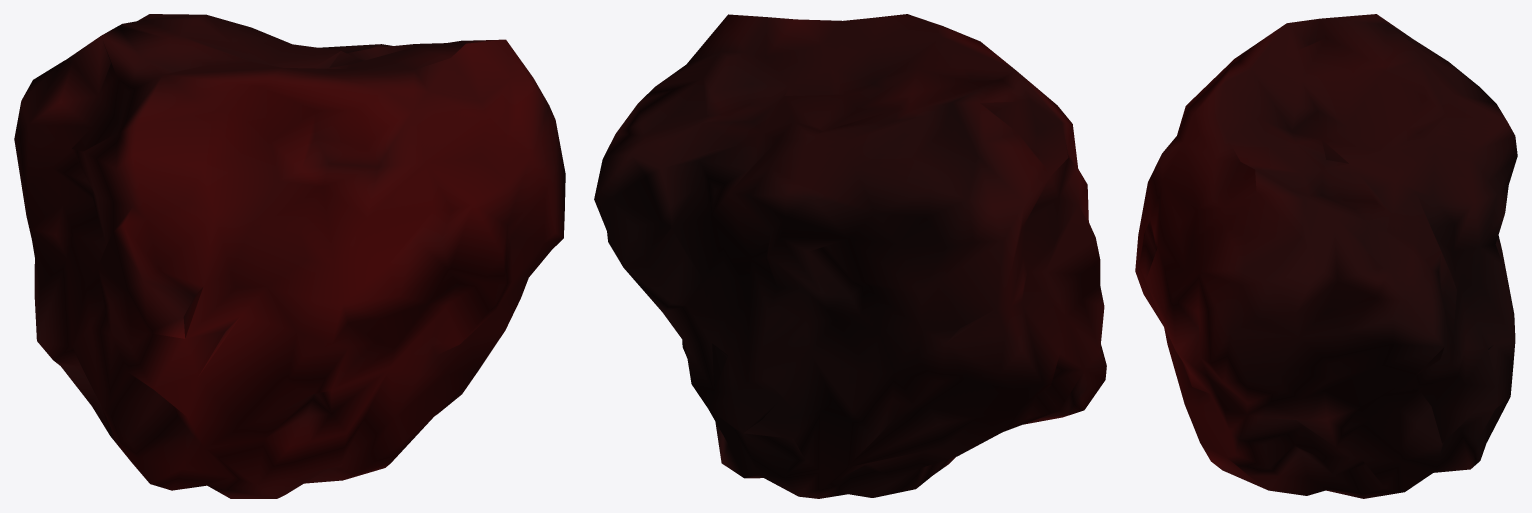
File: geology-rocks-meteoritemedium_v4.fbx
3 renders of one model, left to right at view 1: azimuth 30°, elevation 25°; view 2: azimuth 150°, elevation 25°; view 3: azimuth 270°, elevation 25°, orthographic. The views are drawn at different scales.
Visible parts, largest first — view 1: MeteoriteMedium_v4; view 2: MeteoriteMedium_v4; view 3: MeteoriteMedium_v4.
Boxes of the visible parts, box(x1,y1,x2,y2) form: MeteoriteMedium_v4: box(14, 14, 565, 498); MeteoriteMedium_v4: box(594, 14, 1106, 498); MeteoriteMedium_v4: box(1135, 14, 1517, 498).
Bounding box in the file's own units: 3.2 × 2.96 × 2.56.
